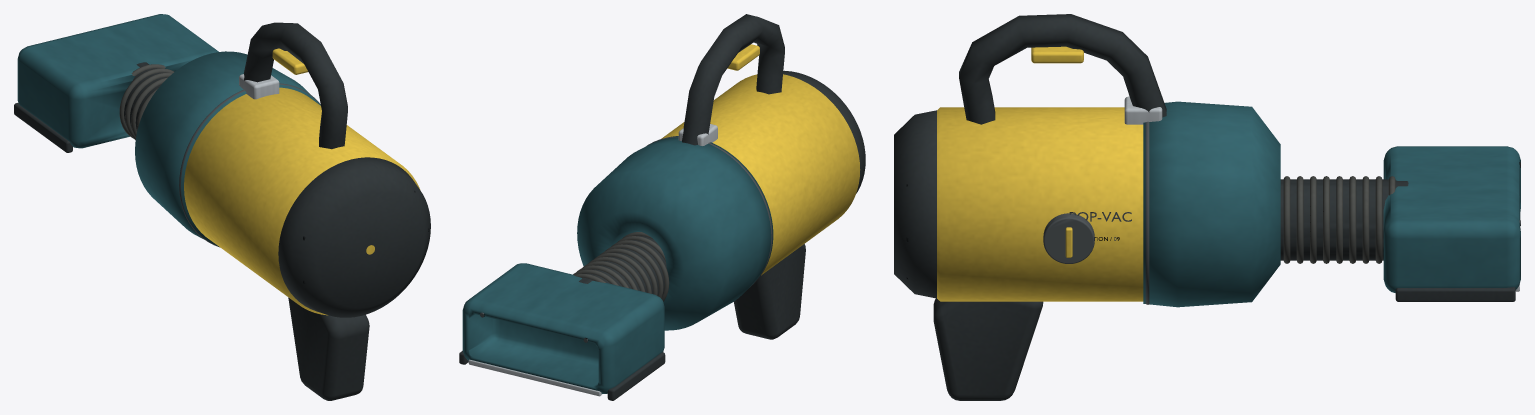
The model's file is pop-vacuum.glb.
The picture shows the model from 3 angles, left to right: view 1: azimuth 30°, elevation 25°; view 2: azimuth 150°, elevation 25°; view 3: azimuth 270°, elevation 25°; orthographic projection. The views are drawn at different scales.
Parts seen in each view (by area): view 1: pop-vacuum; view 2: pop-vacuum; view 3: pop-vacuum.
Part boxes in pixels (<box>): pop-vacuum: <box>14,14,430,400</box>; pop-vacuum: <box>459,14,865,400</box>; pop-vacuum: <box>894,14,1520,400</box>.
Size of the model in its own units: 0.3755 by 0.7256 by 1.1.
7 materials, 7 textured.
